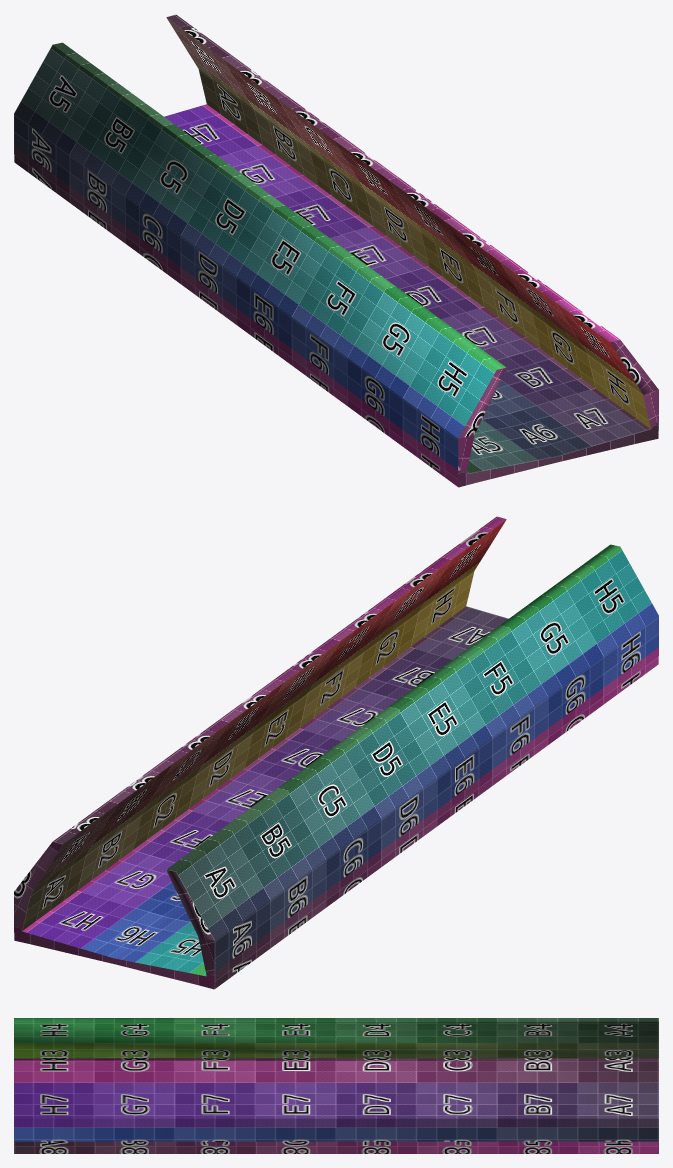
File: roadglb.glb
The picture shows the model from 3 angles, top to bottom: view 1: azimuth 30°, elevation 25°; view 2: azimuth 150°, elevation 25°; view 3: azimuth 270°, elevation 25°; orthographic projection. The views are drawn at different scales.
Visible parts, largest first — view 1: road_rail_r, road_flat, road_rail_l; view 2: road_rail_r, road_flat, road_rail_l; view 3: road_rail_l, road_rail_r, road_flat.
Part boxes in pixels (left/top/right/bottom): road_rail_r: left=14, top=42, right=506, bottom=474; road_flat: left=14, top=104, right=658, bottom=487; road_rail_l: left=166, top=14, right=658, bottom=429; road_rail_r: left=166, top=544, right=658, bottom=976; road_flat: left=14, top=606, right=658, bottom=989; road_rail_l: left=14, top=516, right=506, bottom=930; road_rail_l: left=14, top=1058, right=658, bottom=1141; road_rail_r: left=14, top=1018, right=658, bottom=1058; road_flat: left=14, top=1141, right=658, bottom=1153.
Size of the model in its own units: 3.12 by 1.61 by 11.96.
Materials: 1 (1 with a texture image).
